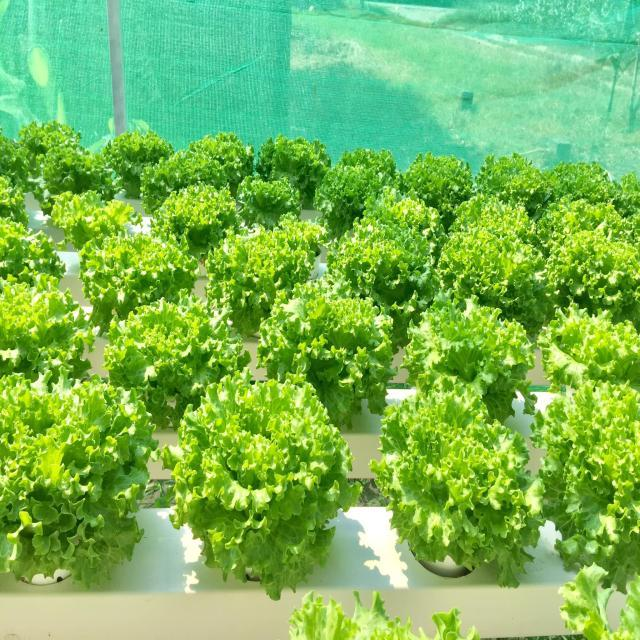Lettuce-Ready-to-Harvest: (171, 377, 362, 583), (381, 390, 542, 591), (4, 382, 154, 581), (543, 379, 640, 577), (258, 292, 400, 407), (401, 290, 537, 410), (106, 305, 243, 411), (0, 278, 94, 405), (537, 300, 640, 404), (431, 238, 546, 326), (72, 234, 204, 309), (327, 228, 431, 322), (203, 235, 312, 319), (551, 230, 640, 320), (361, 187, 450, 254), (155, 182, 246, 243), (452, 197, 541, 257), (139, 148, 226, 204), (56, 193, 144, 246), (549, 196, 640, 246), (534, 156, 622, 204), (0, 219, 65, 281), (101, 127, 175, 180), (402, 142, 477, 193), (468, 149, 541, 199), (248, 176, 309, 233), (261, 131, 333, 179), (330, 139, 406, 184), (16, 112, 87, 156), (41, 149, 112, 191), (194, 133, 255, 174)
